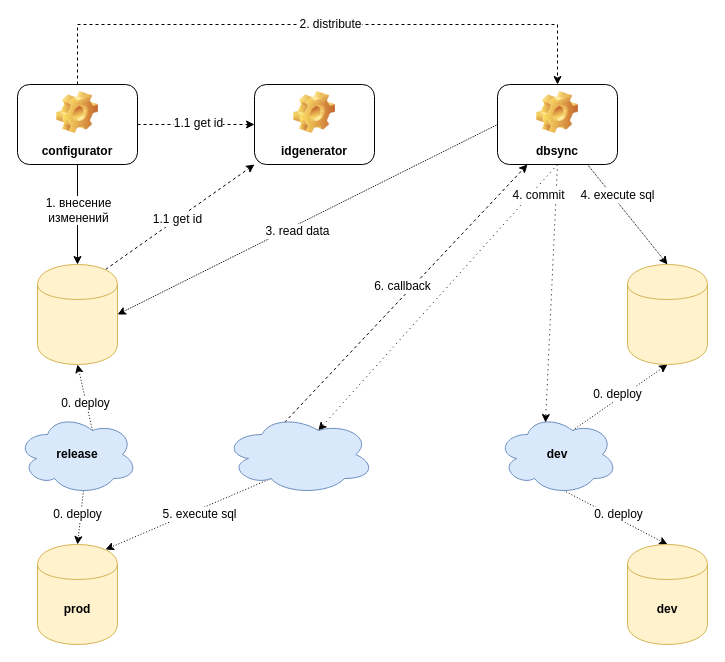
This 725x662 diagram has some shape labels left out. The shapes that lost their labels are listed below. From the top down, each one's box as (x1, y1, x2, y2) in pixels, then its label:
(36, 264, 118, 364): underwriter
(626, 264, 708, 364): analyst
(224, 414, 374, 494): prod-data-changes
